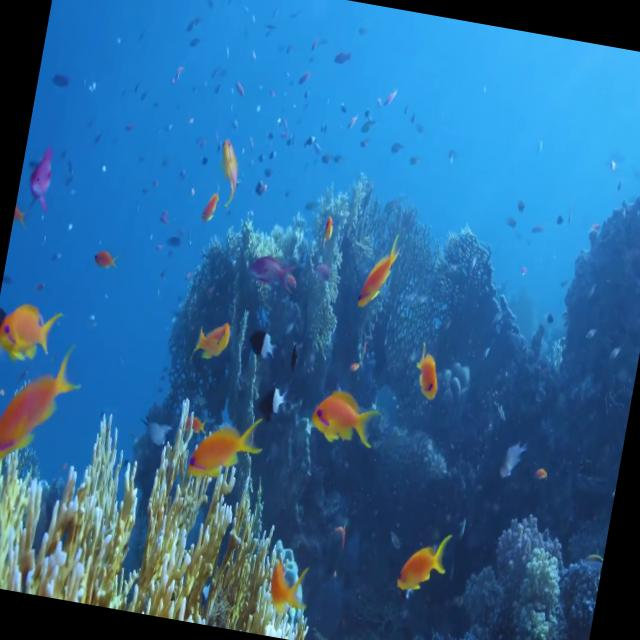fish: (0, 341, 88, 482), (184, 392, 274, 500), (300, 374, 390, 458), (347, 221, 410, 319), (391, 513, 459, 603), (0, 293, 64, 367), (400, 332, 452, 415), (208, 127, 254, 217), (16, 134, 67, 210), (181, 310, 241, 370), (251, 366, 300, 424), (241, 318, 282, 369), (533, 610, 592, 640), (88, 228, 125, 274), (310, 206, 340, 250), (196, 189, 224, 235)
